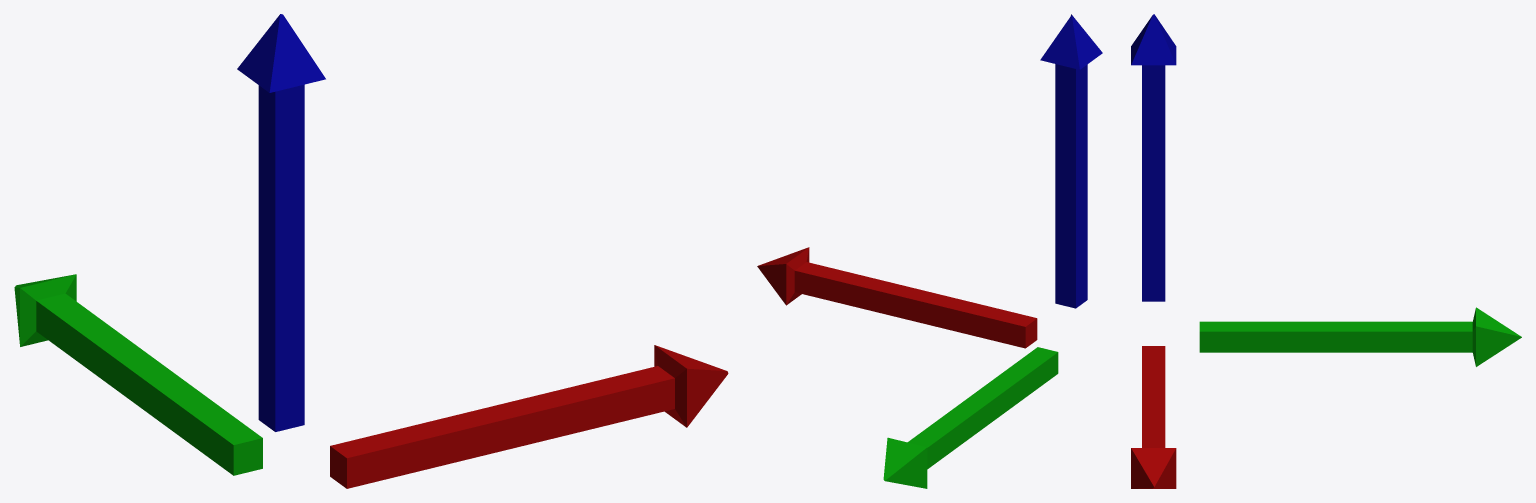
Rendered from translate.obj.
3 renders of one model, left to right at view 1: azimuth 30°, elevation 25°; view 2: azimuth 150°, elevation 25°; view 3: azimuth 270°, elevation 25°, orthographic. The views are drawn at different scales.
Visible parts, largest first — view 1: Cube.002, Cube.001, Cube.003; view 2: Cube.002, Cube.001, Cube.003; view 3: Cube.003, Cube.002, Cube.001.
Part boxes in pixels (x1,y1,x2,y2): Cube.002: (237,14,325,431); Cube.001: (330,345,728,488); Cube.003: (14,274,262,475); Cube.002: (1040,14,1102,308); Cube.001: (757,247,1037,348); Cube.003: (883,347,1058,488); Cube.003: (1199,307,1521,366); Cube.002: (1131,14,1176,301); Cube.001: (1131,346,1176,488).
Size of the model in its own units: 1.19 by 1.19 by 1.22.
